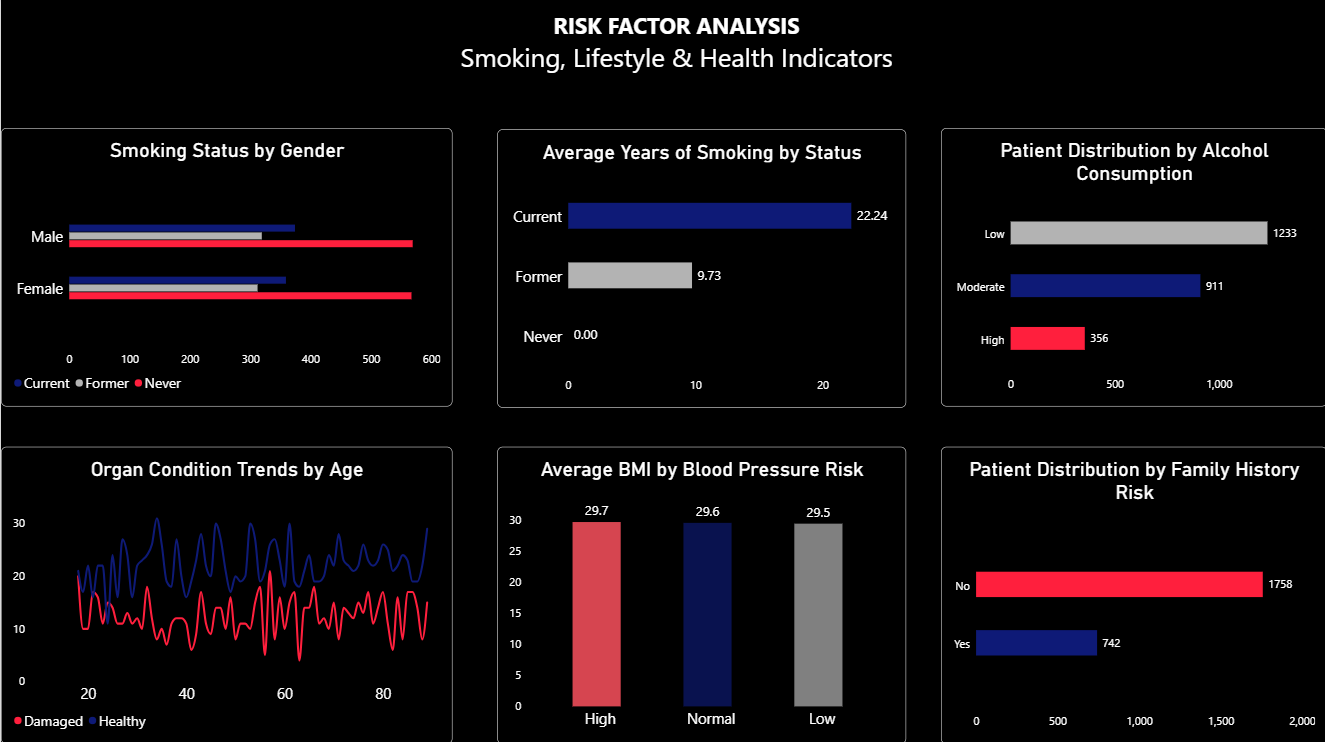

The dashboard page shown, as its layout file describes it:
{"tool":"powerbi","page":{"name":"Risk Factor Analysis","canvas":[1920,1080],"ordinal":7},"visuals":[{"type":"clusteredBarChart","title":"Smoking Status by Gender","fields":{"Category":["HealthData.Gender"],"Series":["HealthData.Smoking_Status"],"Y":["Count(HealthData.Patient_ID)"]},"box":[0,188.2,653.3,403.6],"z":0},{"type":"lineChart","title":"Organ Condition Trends by Age","fields":{"Category":["HealthData.Age"],"Series":["HealthData.Organ_Condition"],"Y":["Count(HealthData.Patient_ID)"]},"box":[0,649.7,653.3,430.7],"z":1},{"type":"clusteredBarChart","title":"Average Years of Smoking by Status","fields":{"Category":["HealthData.Smoking_Status"],"Y":["Avg(HealthData.Years_of_Smoking)"]},"box":[718.4,190,591.8,403.6],"z":2},{"type":"clusteredColumnChart","title":"Average BMI by Blood Pressure Risk","fields":{"Category":["HealthData.BP_Risk"],"Y":["Avg(HealthData.BMI)"]},"box":[718.4,649.7,591.8,430.7],"z":3},{"type":"clusteredBarChart","title":"Patient Distribution by Alcohol Consumption","fields":{"Category":["HealthData.Alcohol_Consumption"],"Y":["Count(HealthData.Patient_ID)"]},"box":[1360.9,188.2,559.2,403.6],"z":4},{"type":"clusteredBarChart","title":"Patient Distribution by Family History Risk","fields":{"Category":["HealthData.Family_History_Risk"],"Y":["Count(HealthData.Patient_ID)"]},"box":[1360.9,649.7,559.2,430.7],"z":5},{"type":"textbox","box":[155.6,18.1,1645,99.5],"z":6}]}

Visuals, with their boxes in screenshot pixels (x1, y1, x2, y2), scaled from the page's 1920x1080 canvas onto the 1325x742 screenshot:
"Smoking Status by Gender" clusteredBarChart: pyautogui.locateOnScreen(0, 129, 451, 407)
"Organ Condition Trends by Age" lineChart: pyautogui.locateOnScreen(0, 446, 451, 741)
"Average Years of Smoking by Status" clusteredBarChart: pyautogui.locateOnScreen(496, 131, 904, 408)
"Average BMI by Blood Pressure Risk" clusteredColumnChart: pyautogui.locateOnScreen(496, 446, 904, 741)
"Patient Distribution by Alcohol Consumption" clusteredBarChart: pyautogui.locateOnScreen(939, 129, 1324, 407)
"Patient Distribution by Family History Risk" clusteredBarChart: pyautogui.locateOnScreen(939, 446, 1324, 741)
textbox: pyautogui.locateOnScreen(107, 12, 1243, 81)
